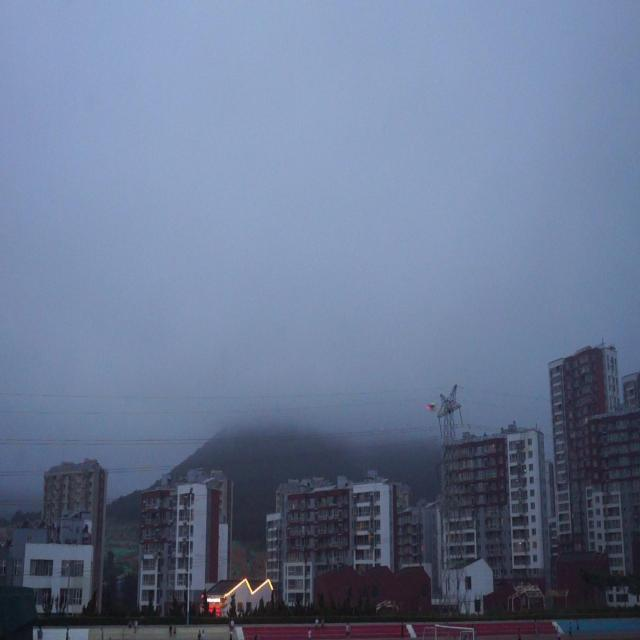drone: (425, 397, 438, 415)
